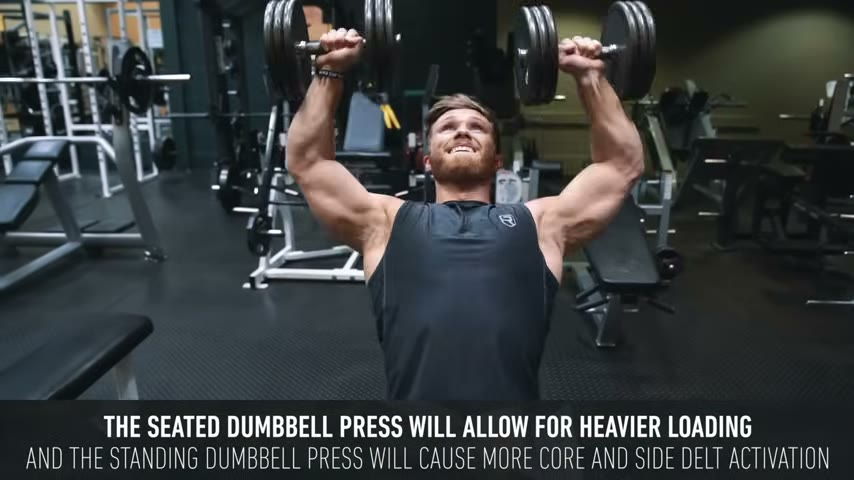barbell_plate_side: (588, 210, 679, 356)
